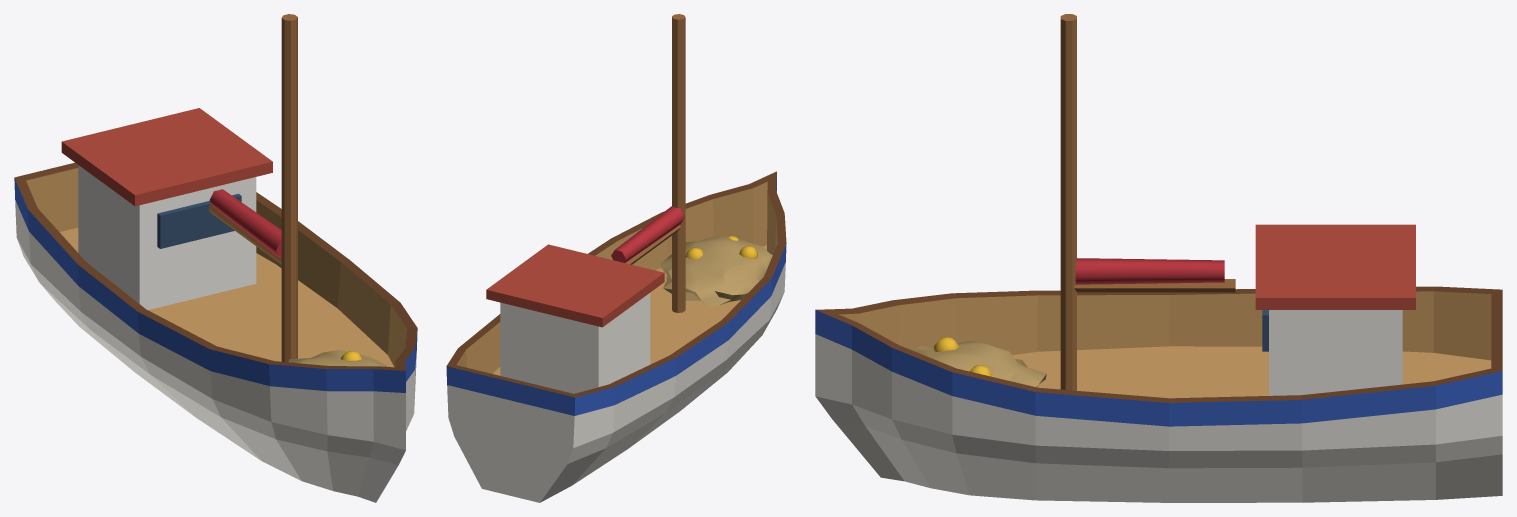
Rendered from pixor-library-fishing-boat.glb.
3 views of the same model, side by side, from view 1: azimuth 30°, elevation 25°; view 2: azimuth 150°, elevation 25°; view 3: azimuth 270°, elevation 25° (orthographic). The views are drawn at different scales.
Visible parts, largest first — view 1: Boat hull, Boat cabin, Boat cabin roof, Boat mast, Boat windows, Boat furled sail, Boat nets; view 2: Boat hull, Boat cabin, Boat cabin roof, Boat nets, Boat mast, Boat furled sail, Boat floats; view 3: Boat hull, Boat cabin roof, Boat cabin, Boat mast, Boat furled sail, Boat nets.
Boxes of the visible parts, box(x1,y1,x2,y2) form: Boat hull: box(14, 162, 417, 502); Boat cabin: box(78, 165, 256, 309); Boat cabin roof: box(61, 108, 272, 206); Boat mast: box(208, 14, 297, 362); Boat windows: box(157, 193, 241, 248); Boat furled sail: box(209, 189, 281, 258); Boat nets: box(288, 349, 414, 401); Boat hull: box(446, 171, 786, 502); Boat cabin: box(500, 293, 650, 393); Boat cabin roof: box(486, 244, 664, 327); Boat nets: box(660, 236, 772, 306); Boat mast: box(625, 14, 685, 312); Boat furled sail: box(611, 206, 684, 262); Boat floats: box(685, 236, 757, 259); Boat hull: box(815, 286, 1502, 502); Boat cabin roof: box(1255, 224, 1415, 309); Boat cabin: box(1269, 310, 1402, 395); Boat mast: box(1060, 14, 1235, 390); Boat furled sail: box(1075, 258, 1224, 284); Boat nets: box(891, 341, 1046, 405).
Bounding box in the file's own units: 1.2 × 2.28 × 3.09.
